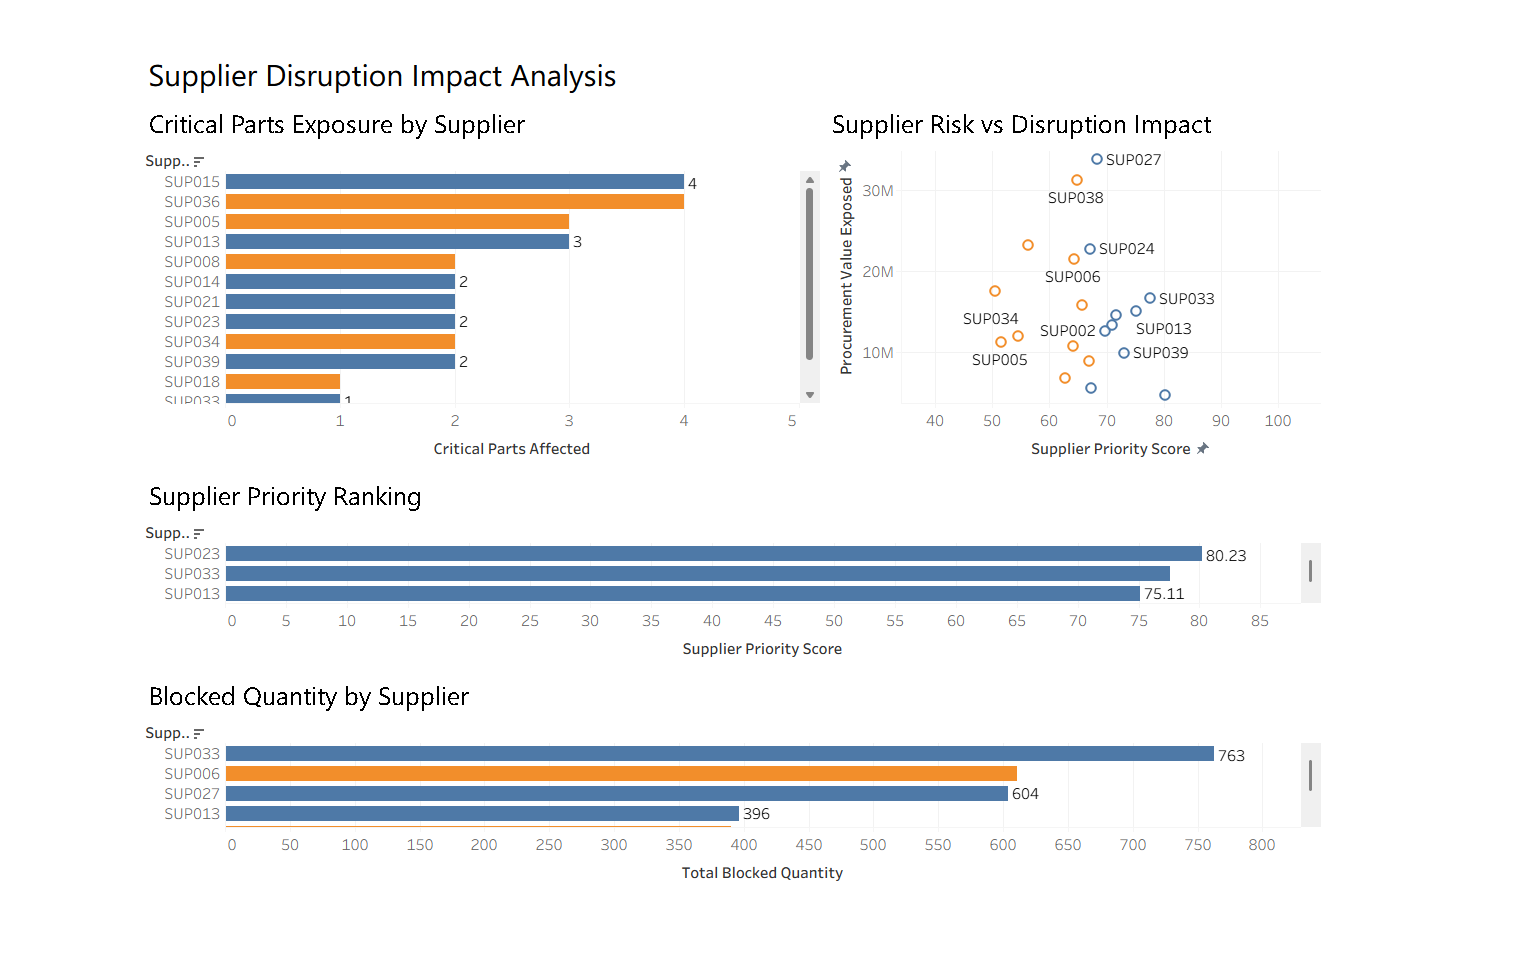

This screenshot's page, from the dashboard's own definition file:
{"tool":"tableau","page":{"name":"Disruption Impact","canvas":[1000,1000],"units":"permille","ordinal":0},"visuals":[{"type":"title","box":[6.7,10,986.7,59.9]},{"type":"worksheet","title":"Critical Parts Exposure","mark":"Automatic","rows":["supplier_id"],"cols":["critical_parts_affected"],"box":[6.7,69.8,569.1,430.2]},{"type":"worksheet","title":"Supplier Risk vs Disruption Impact","mark":"Automatic","rows":["procurement_value_exposed"],"cols":["supplier_priority_score"],"box":[575.8,69.8,417.5,430.2]},{"type":"worksheet","title":"Supplier Priority Ranking","mark":"Automatic","rows":["supplier_id"],"cols":["supplier_priority_score"],"box":[6.7,500,986.7,230.7]},{"type":"worksheet","title":"Blocked Quantity by Supplier","mark":"Automatic","rows":["supplier_id"],"cols":["total_blocked_quantity"],"box":[6.7,730.7,986.7,259.4]}]}

Visuals, with their boxes on the dashboard's canvas, which has no fixed pixel size, in thousandths of its width and height (x1, y1, x2, y2). These are canvas units, not pixel positions in the 1527x955 screenshot, which may show the page scaled, cropped or inside an application window:
title: 7:10:993:70
"Critical Parts Exposure" worksheet: 7:70:576:500
"Supplier Risk vs Disruption Impact" worksheet: 576:70:993:500
"Supplier Priority Ranking" worksheet: 7:500:993:731
"Blocked Quantity by Supplier" worksheet: 7:731:993:990
